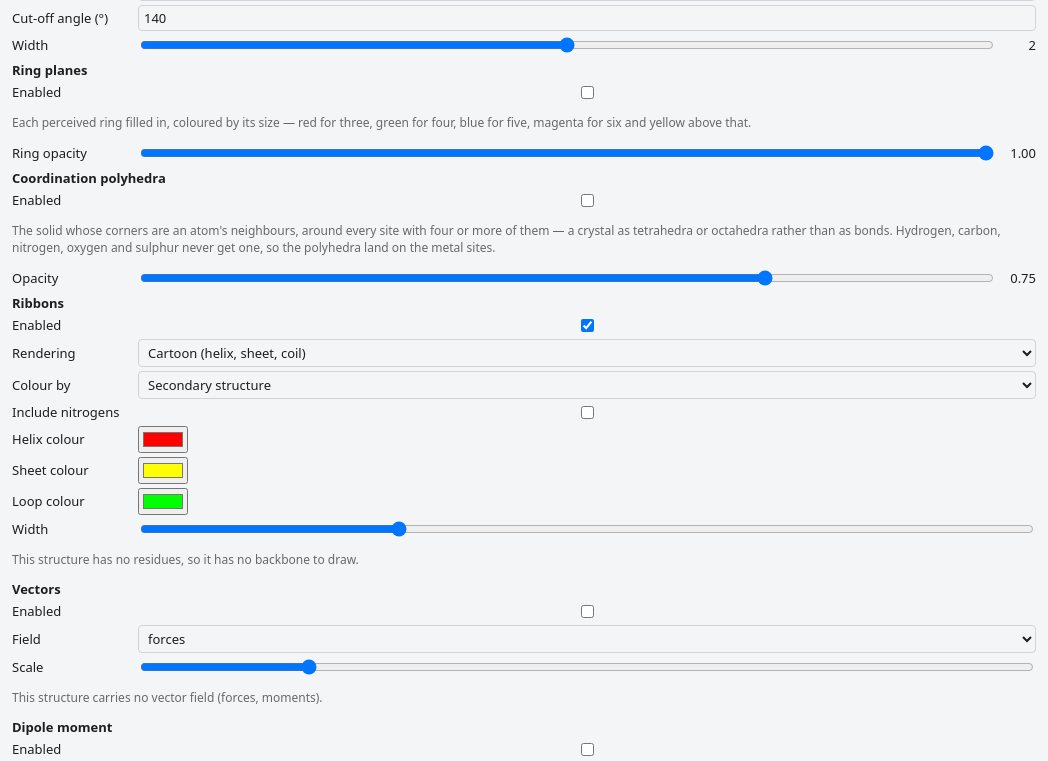
Test case: the residue palette is reachable from whichever engine is coloured by residue
The width and height of the screenshot is (1048, 761).
(page scrolled)
Check: the field labelled "Residue colours" is not shown
// the ribbon alone can be on residues, and the palette must be reachable there
Select "Residue" in the dropdown labelled "Colour by": (587, 385) [138, 371, 1036, 399]
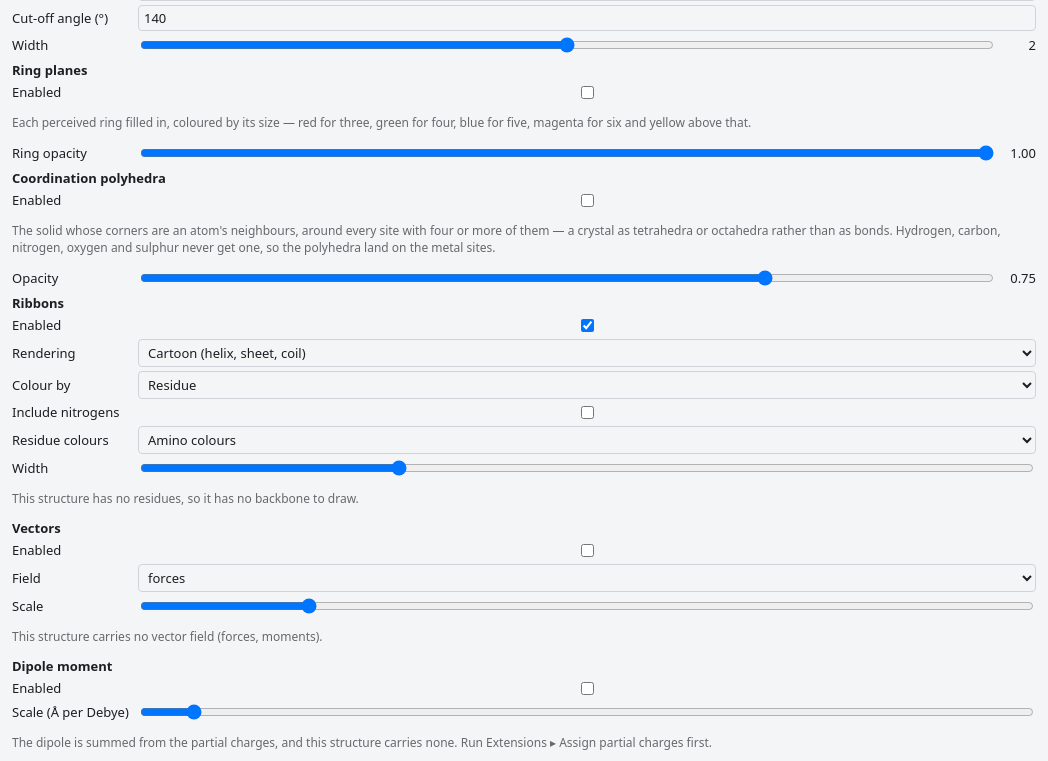
Select "Shapely colours" in the dropdown labelled "Residue colours": (587, 440) [138, 426, 1036, 454]
(page scrolled)
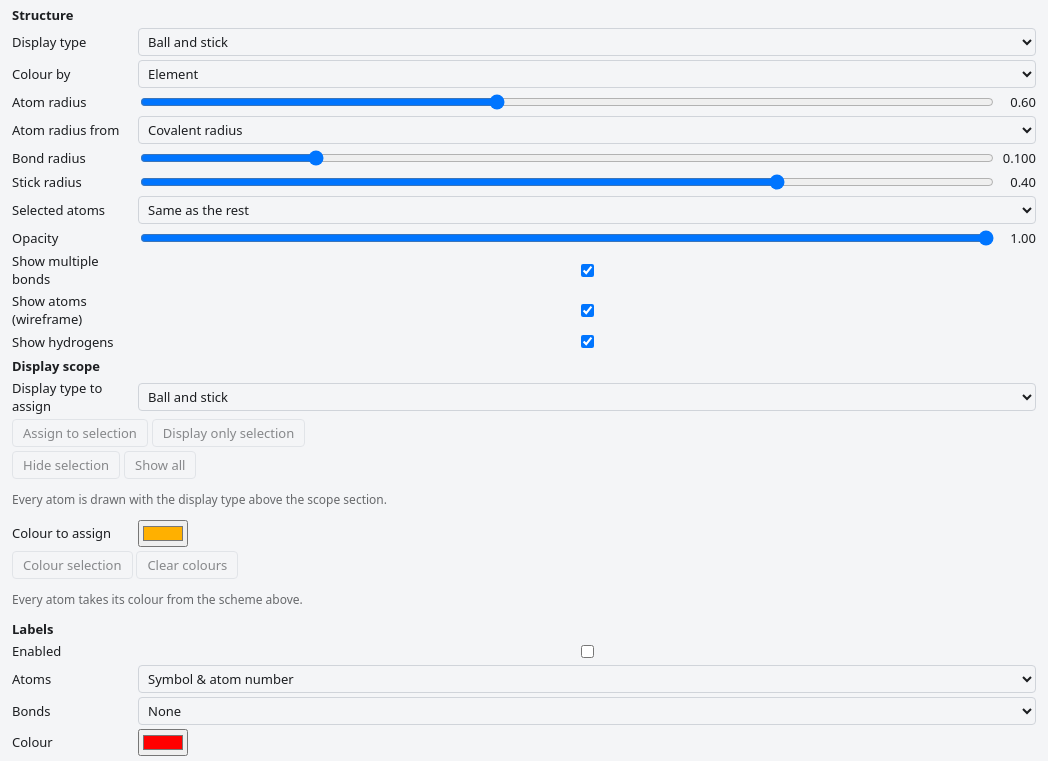
// with both on residues there are two selects showing the one setting
Select "Residue" in the dropdown labelled "Colour by": (587, 74) [138, 60, 1036, 88]
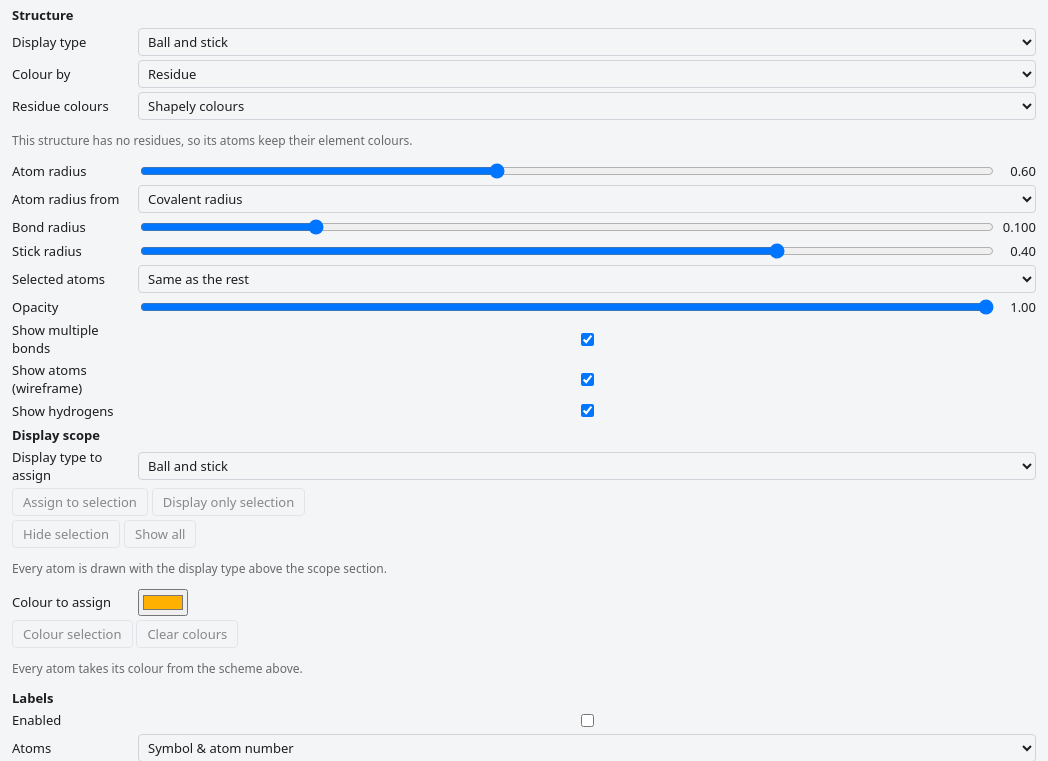
Check: the number of dropdowns labelled "Residue colours" is 2
